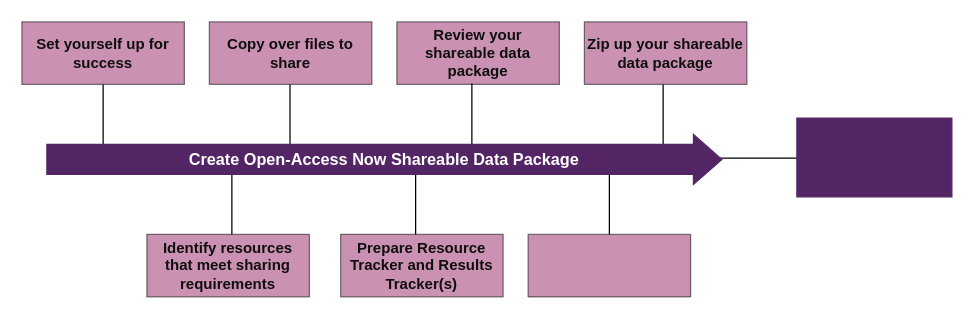
Image size: 974x319. Some labels were removed from this diagram. The shapes that lost their labels are listed below. From the top down, each one's centre as x and y in pixels, then its label:
the point at 874,157: Upload Shareable Data Package to Repository
the point at 609,265: Prepare other materials for submission
